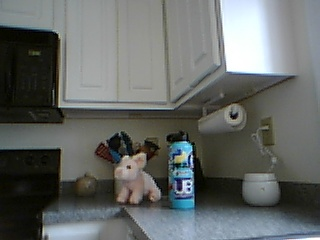piggy: (112, 152, 162, 205)
